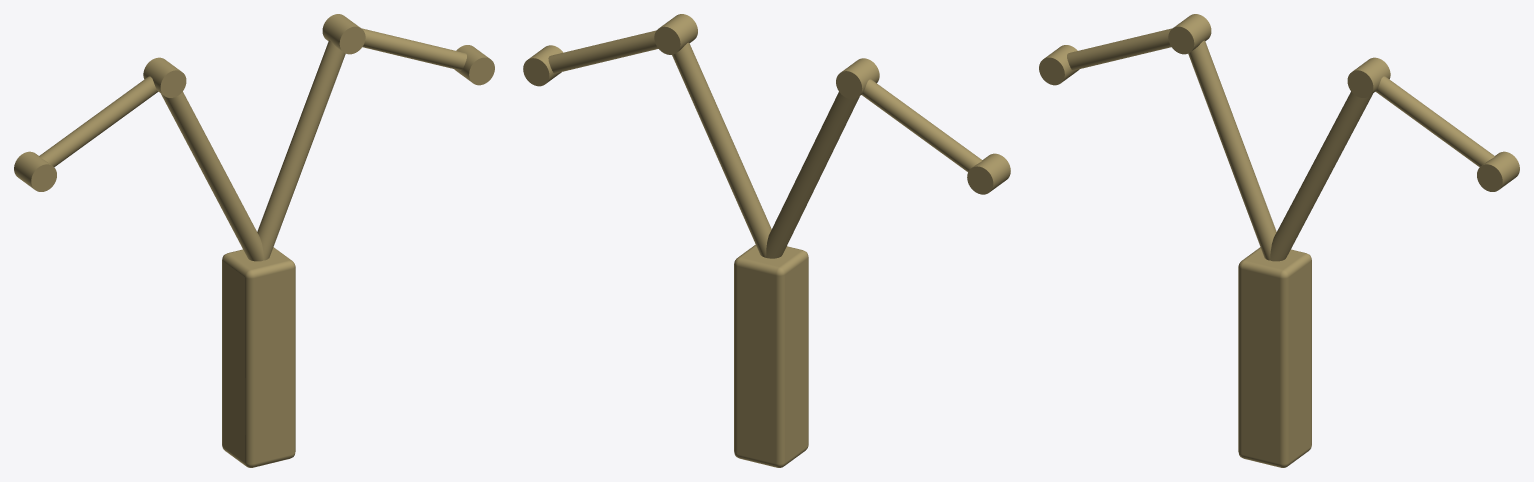
File: water-clock-garden-and-hydraulic-puzzles-heron-wing-li-bd46a260__31944.glb
3 views of the same model, side by side, from view 1: azimuth 30°, elevation 25°; view 2: azimuth 150°, elevation 25°; view 3: azimuth 330°, elevation 25° (orthographic).
Parts seen in each view (by area): view 1: heron-wing-linkage; view 2: heron-wing-linkage; view 3: heron-wing-linkage.
Boxes of the visible parts, x1=… form: heron-wing-linkage: x1=14, y1=14, x2=494, y2=467; heron-wing-linkage: x1=523, y1=14, x2=1010, y2=467; heron-wing-linkage: x1=1039, y1=14, x2=1519, y2=467.
Bounding box in the file's own units: 0.932 × 0.786 × 0.1.
